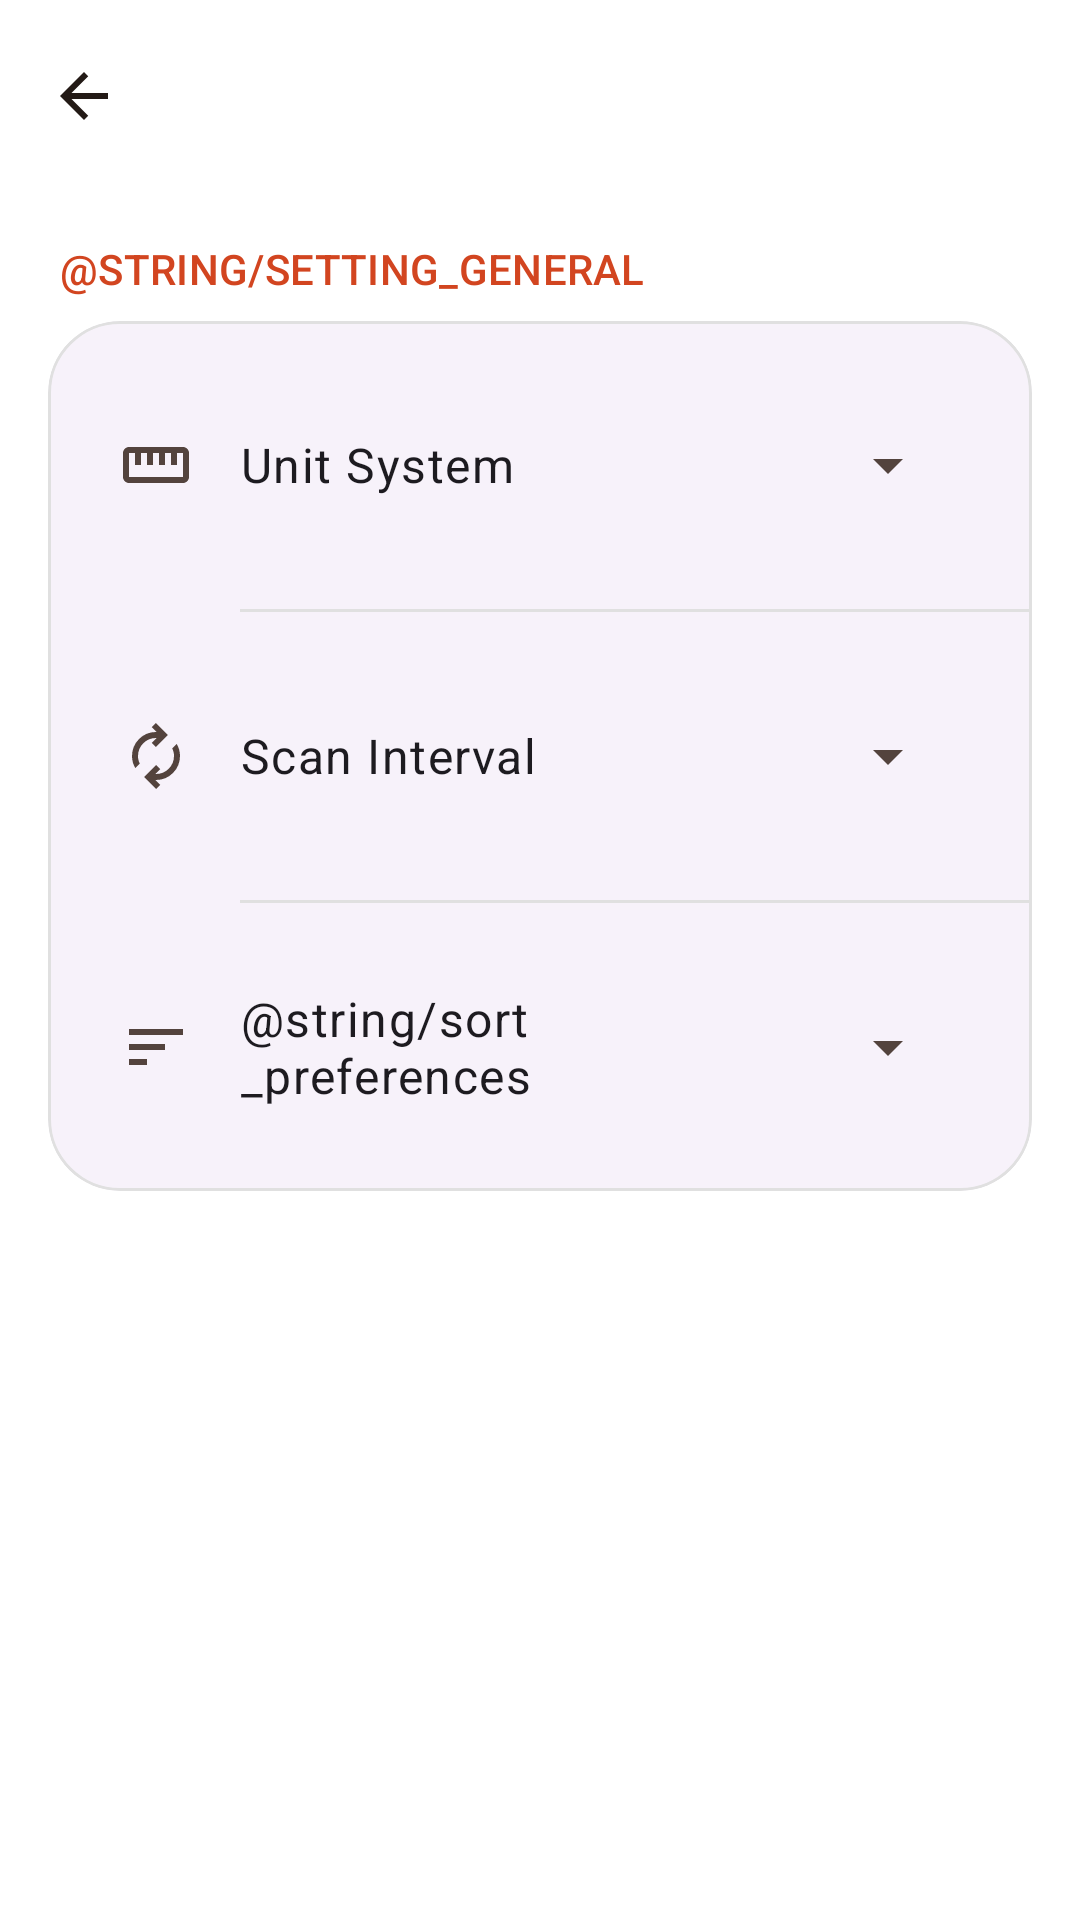

Named icons in this screenshot (1080px×1920px) and their centers, point (x, y):
refresh: point (156, 756)
